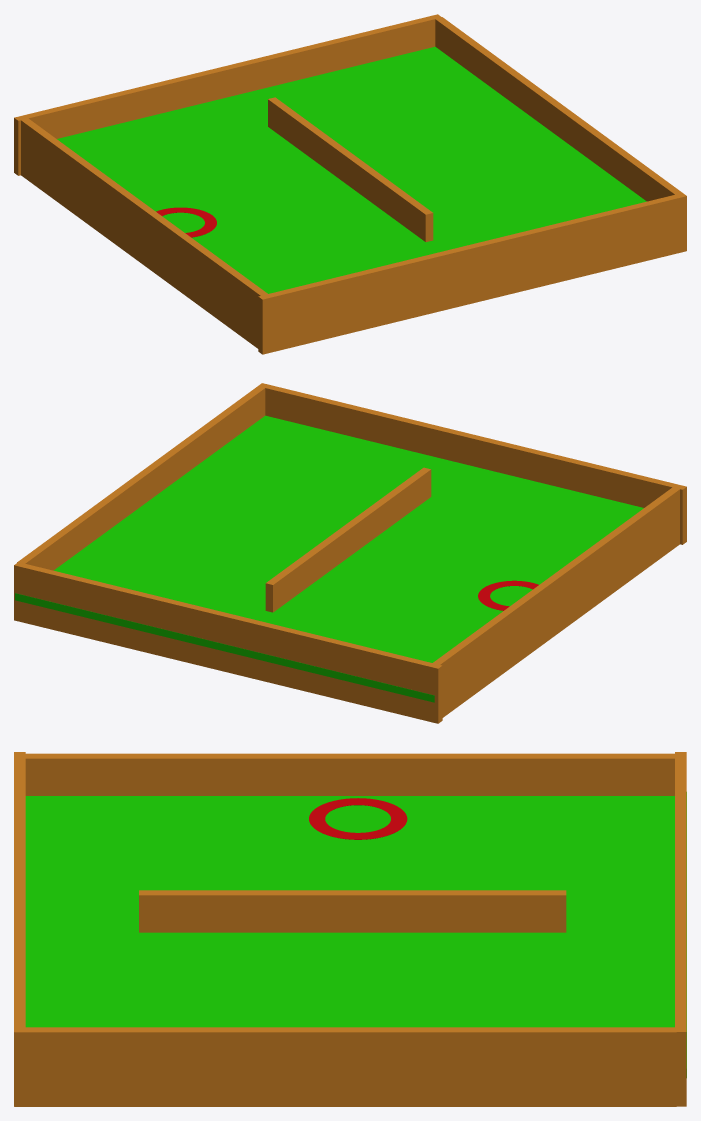
File: Level#2.fbx
3 renders of one model, top to bottom at view 1: azimuth 30°, elevation 25°; view 2: azimuth 150°, elevation 25°; view 3: azimuth 270°, elevation 25°, orthographic. The views are drawn at different scales.
Parts seen in each view (by area): view 1: Cube, Cube.003, Cube.002, Cube.001, Cube.004, Cube.005, Torus; view 2: Cube, Cube.001, Cube.002, Cube.003, Cube.004, Cube.005, Torus; view 3: Cube, Cube.004, Cube.002, Cube.005, Cube.001, Cube.003, Torus.
Part boxes in pixels (bbox=[...]): Cube: bbox=[57, 46, 646, 293]; Cube.003: bbox=[258, 193, 686, 354]; Cube.002: bbox=[21, 118, 268, 348]; Cube.001: bbox=[14, 14, 441, 175]; Cube.004: bbox=[435, 17, 686, 250]; Cube.005: bbox=[268, 97, 433, 241]; Torus: bbox=[156, 207, 216, 237]; Cube: bbox=[15, 415, 643, 702]; Cube.001: bbox=[14, 562, 442, 723]; Cube.002: bbox=[432, 484, 683, 717]; Cube.003: bbox=[259, 383, 686, 544]; Cube.004: bbox=[17, 383, 266, 570]; Cube.005: bbox=[265, 467, 431, 612]; Torus: bbox=[478, 580, 538, 610]; Cube: bbox=[25, 792, 686, 1077]; Cube.004: bbox=[14, 1027, 676, 1106]; Cube.002: bbox=[14, 753, 676, 795]; Cube.005: bbox=[139, 890, 566, 932]; Cube.001: bbox=[675, 752, 686, 1106]; Cube.003: bbox=[14, 752, 25, 1106]; Torus: bbox=[309, 798, 407, 839].
Bounding box in the file's own units: 1613 × 200 × 1637.
